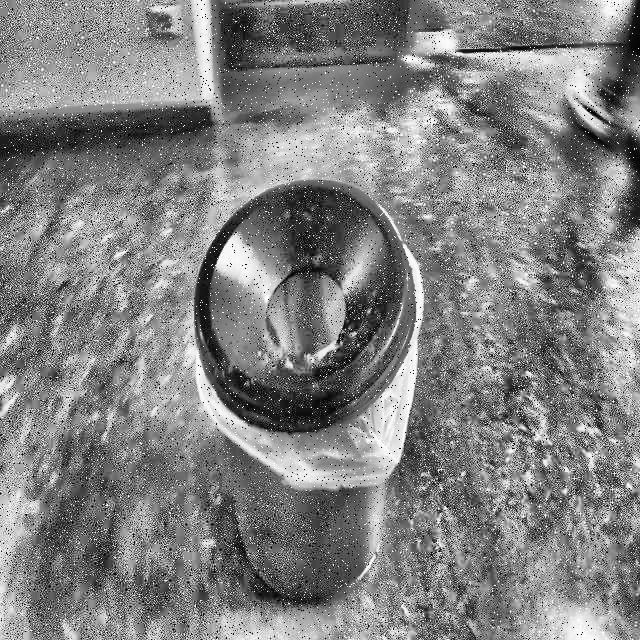Dustbin: (186, 163, 447, 639)
